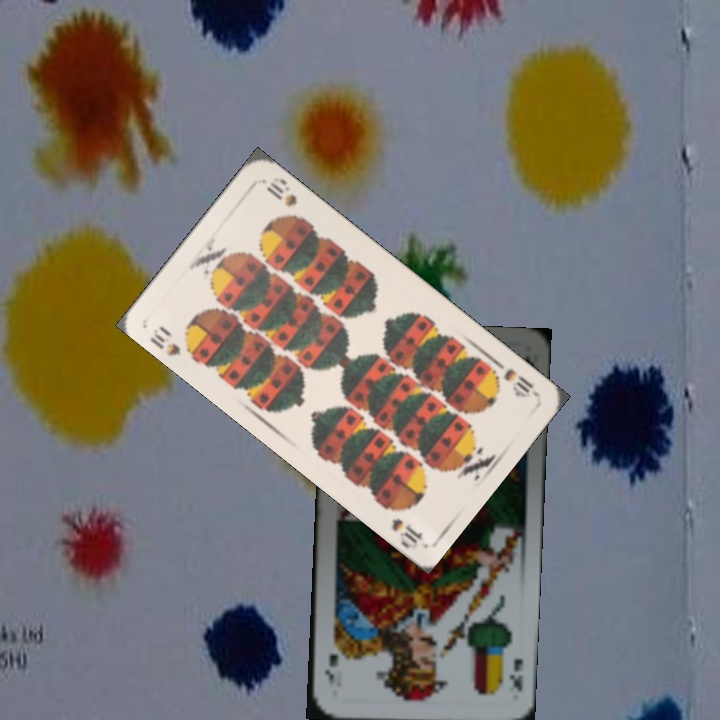EK: (505, 653, 526, 694)
S10: (146, 321, 198, 362), (499, 364, 539, 401)
